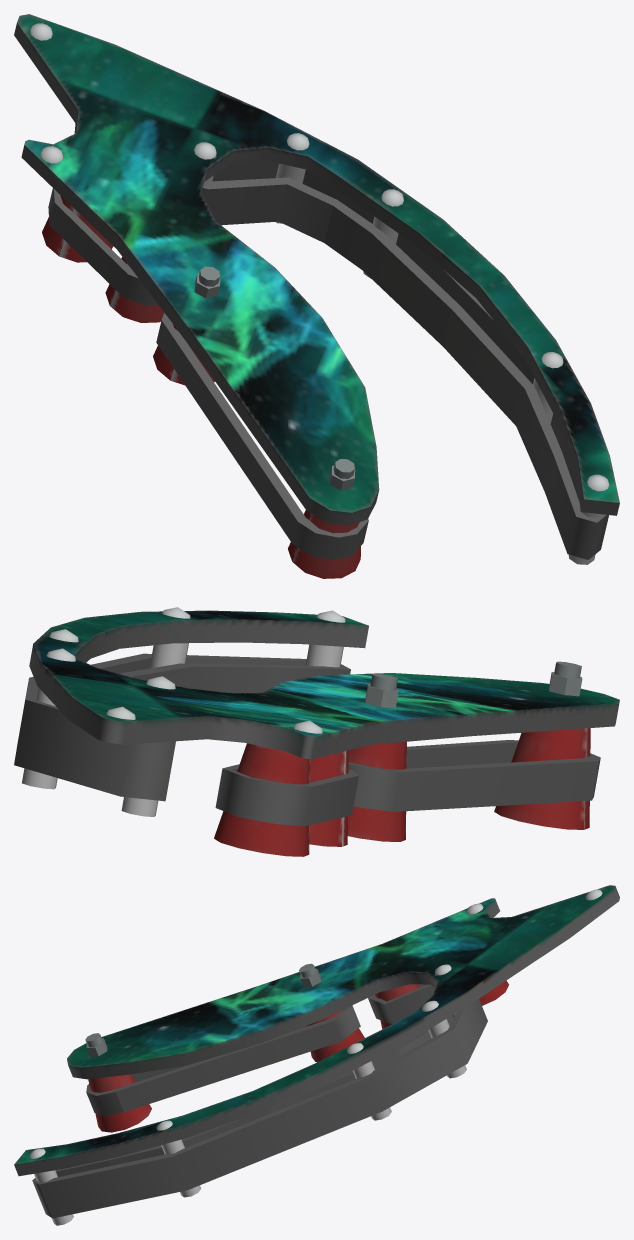
Rendered from HoleBase.glb.
3 renders of one model, top to bottom at view 1: azimuth 30°, elevation 25°; view 2: azimuth 150°, elevation 25°; view 3: azimuth 270°, elevation 25°, orthographic. The views are drawn at different scales.
Visible parts, largest first — view 1: HoleBumper.001; view 2: HoleBumper.001; view 3: HoleBumper.001.
Boxes of the visible parts, x1,y1,x2,y2 form: HoleBumper.001: (14,14,619,578); HoleBumper.001: (14,607,619,856); HoleBumper.001: (14,885,619,1225).
Bounding box in the file's own units: 0.165 × 0.1567 × 0.3315.
1 material, 1 textured.
